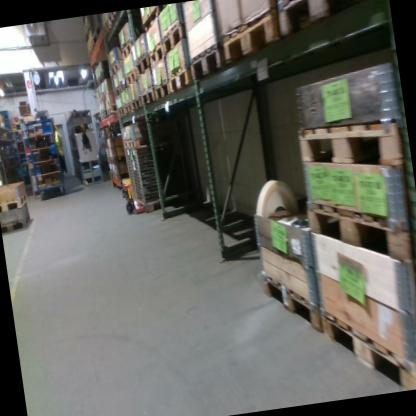pallet: (318, 295, 416, 398), (307, 186, 414, 275), (292, 110, 410, 182), (215, 1, 286, 71), (258, 267, 325, 339), (279, 0, 390, 38), (188, 43, 230, 89), (159, 21, 191, 58), (167, 67, 195, 100), (0, 210, 35, 236), (147, 39, 167, 73), (152, 77, 174, 105), (0, 193, 28, 213), (122, 136, 157, 151), (132, 51, 151, 76), (92, 22, 106, 49), (120, 38, 137, 60), (140, 85, 156, 106), (129, 93, 144, 114), (108, 59, 126, 76), (100, 16, 113, 36), (125, 66, 138, 85), (109, 10, 124, 23), (105, 104, 117, 119), (124, 100, 133, 116), (114, 85, 122, 96), (119, 107, 124, 119)
pallet_truck: (104, 114, 146, 218)
stillage: (128, 136, 198, 214), (122, 144, 138, 206)
